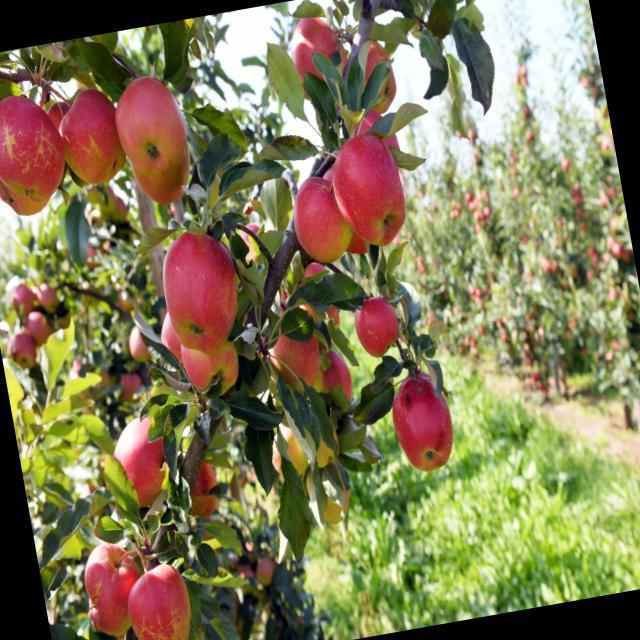APPLE: (155, 222, 248, 352), (110, 79, 202, 198), (0, 87, 71, 219), (335, 144, 416, 253), (50, 78, 124, 184), (121, 555, 209, 640), (106, 423, 177, 512), (291, 176, 356, 270)
